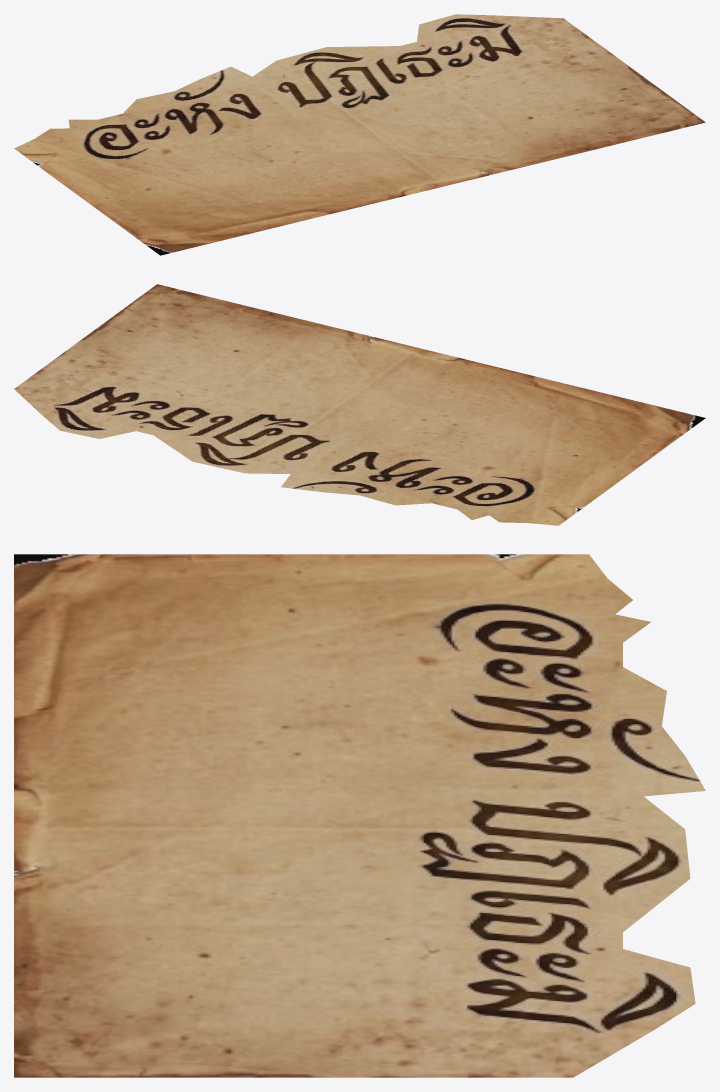
The model's file is ปลอม.glb.
The picture shows the model from 3 angles, top to bottom: view 1: azimuth 30°, elevation 25°; view 2: azimuth 150°, elevation 25°; view 3: azimuth 270°, elevation 25°; orthographic projection. The views are drawn at different scales.
Visible parts, largest first — view 1: Plane.001; view 2: Plane.001; view 3: Plane.001.
Boxes of the visible parts, x1,y1,x2,y2 form: Plane.001: [14, 14, 705, 255]; Plane.001: [14, 284, 705, 525]; Plane.001: [14, 554, 705, 1077].
Size of the model in its own units: 1 by 0 by 0.5591.
1 material, 1 textured.
